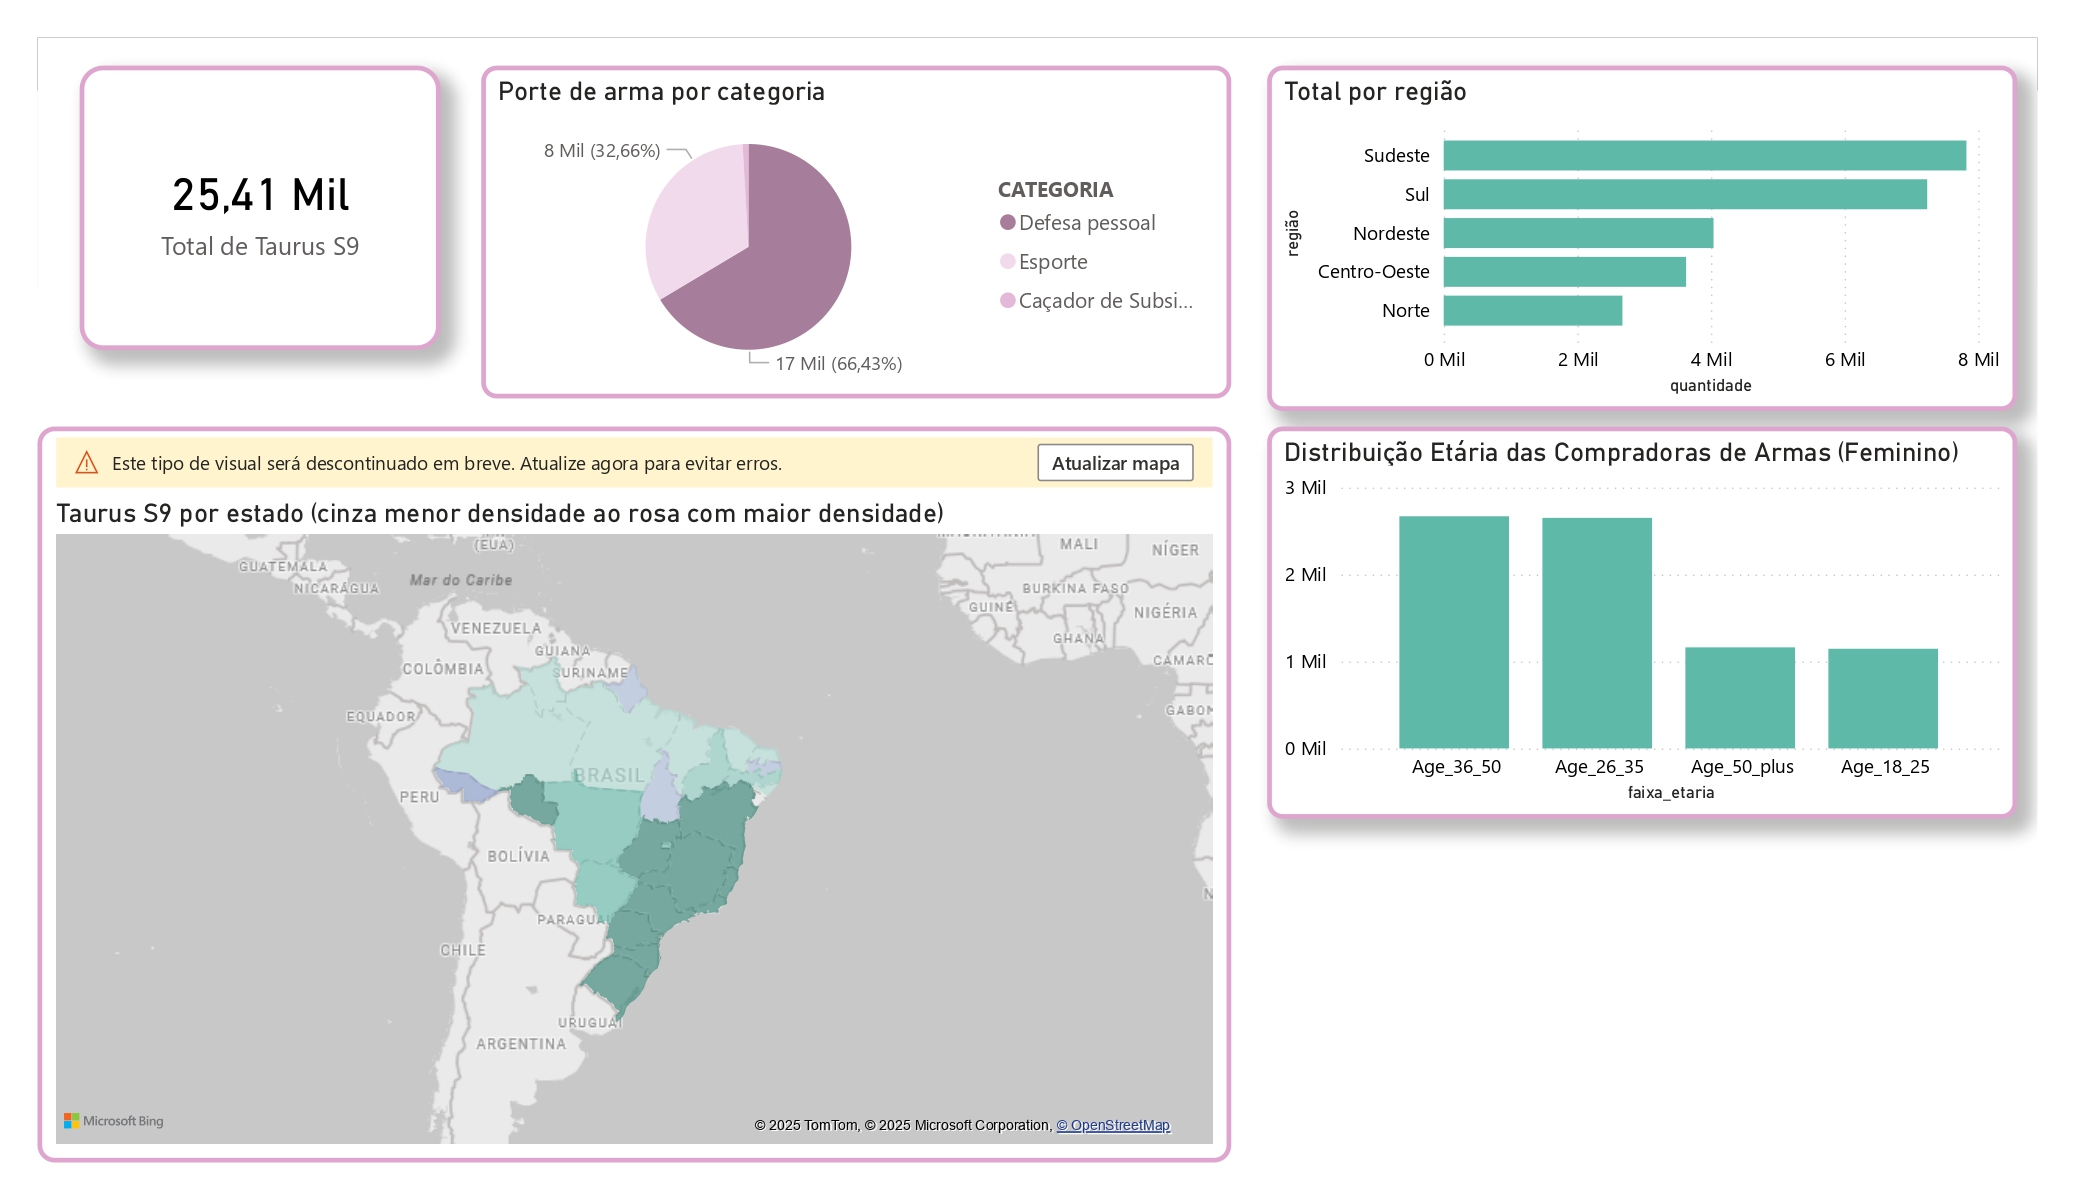

Layout of this report page (visuals, bound fields, positions):
{"tool":"powerbi","page":{"name":"Mapa Taurus S9","canvas":[1280,720],"ordinal":1},"visuals":[{"type":"azureMap","title":"Taurus S9 por estado (cinza menor densidade ao rosa com maior densidade) ","fields":{"Category":["mapa_de_estados.Localizacao_estado"],"Series":["mapa_de_estados.total_armas_por_estado"]},"box":[80.5,248.8,683.4,471.2],"z":0},{"type":"barChart","title":"Total por região","fields":{"Category":["mapa_de_estados.região"],"Y":["Sum(mapa_de_estados.total_armas_por_estado)"]},"box":[786.6,17.9,480.6,220.9],"z":1000},{"type":"card","fields":{"Values":["Sum(mapa_de_estados.total_armas_por_estado)"]},"box":[114.1,17.6,159.5,182.9],"z":2000},{"type":"pieChart","title":"Porte de arma por categoria","fields":{"Category":["REGISTROS_com_categoria_2025_utf8.CATEGORIA"],"Y":["Sum(REGISTROS_com_categoria_2025_utf8.TOTAL)"]},"box":[283.6,17.9,480.6,213.4],"z":3000},{"type":"columnChart","title":"Distribuição Etária das Compradoras de Armas (Feminino)","fields":{"Category":["idades_estado.faixa_etaria"],"Y":["Sum(idades_estado.quantidade_mulheresfaixa)"]},"box":[785.9,248.8,481.5,235.6],"z":4000},{"type":"image","box":[785.9,500.5,480,219.5],"z":5000},{"type":"shape","box":[0,55.7,80,664.3],"z":6000},{"type":"image","box":[0,231.2,80.5,70.2],"z":7000},{"type":"image","box":[1.5,332.2,76.1,54.1],"z":8000}]}

Visuals, with their boxes on the page's 1280x720 design canvas (x1, y1, x2, y2). These are canvas units, not pixel positions in the 2075x1200 screenshot, which may show the page scaled, cropped or inside an application window:
"Taurus S9 por estado (cinza menor densidade ao rosa com maior densidade) " azureMap: rect(80, 249, 764, 720)
"Total por região" barChart: rect(787, 18, 1267, 239)
card - Sum(mapa_de_estados.total_armas_por_estado): rect(114, 18, 274, 200)
"Porte de arma por categoria" pieChart: rect(284, 18, 764, 231)
"Distribuição Etária das Compradoras de Armas (Feminino)" columnChart: rect(786, 249, 1267, 484)
image: rect(786, 500, 1266, 720)
shape: rect(0, 56, 80, 720)
image: rect(0, 231, 80, 301)
image: rect(2, 332, 78, 386)
